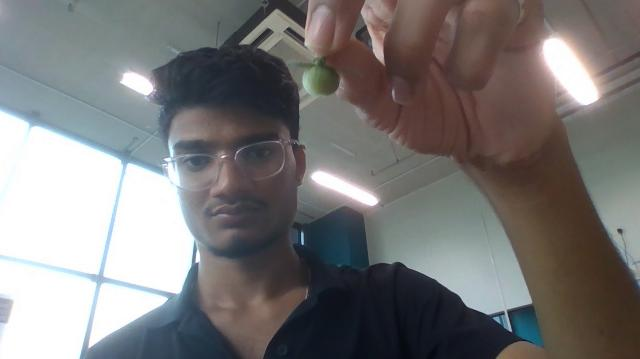Fruit Maturation: (303, 60, 340, 98)
